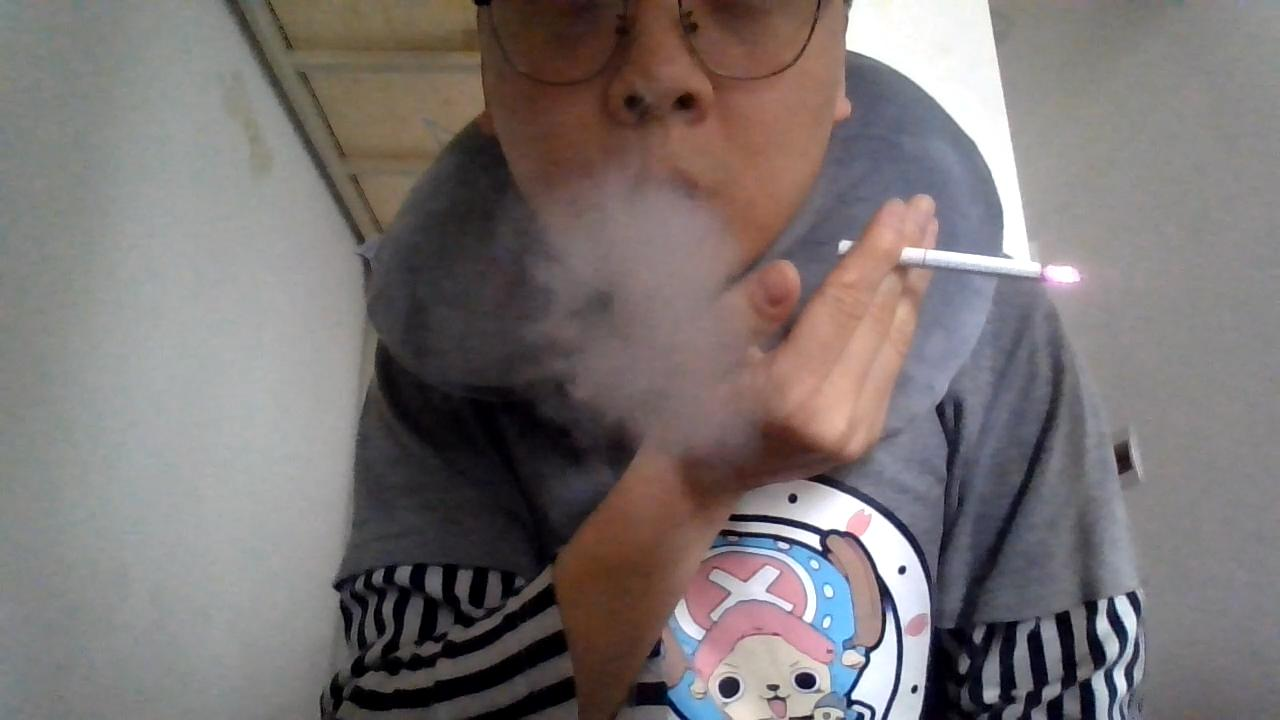yanwu: (538, 169, 764, 458)
